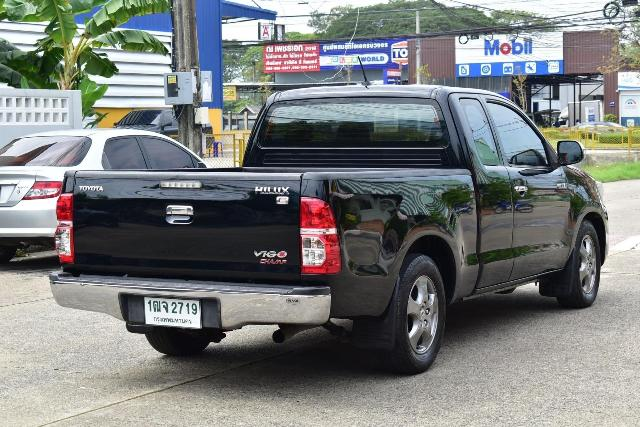car: (1, 121, 102, 251)
pickup-truck: (39, 71, 614, 389)
